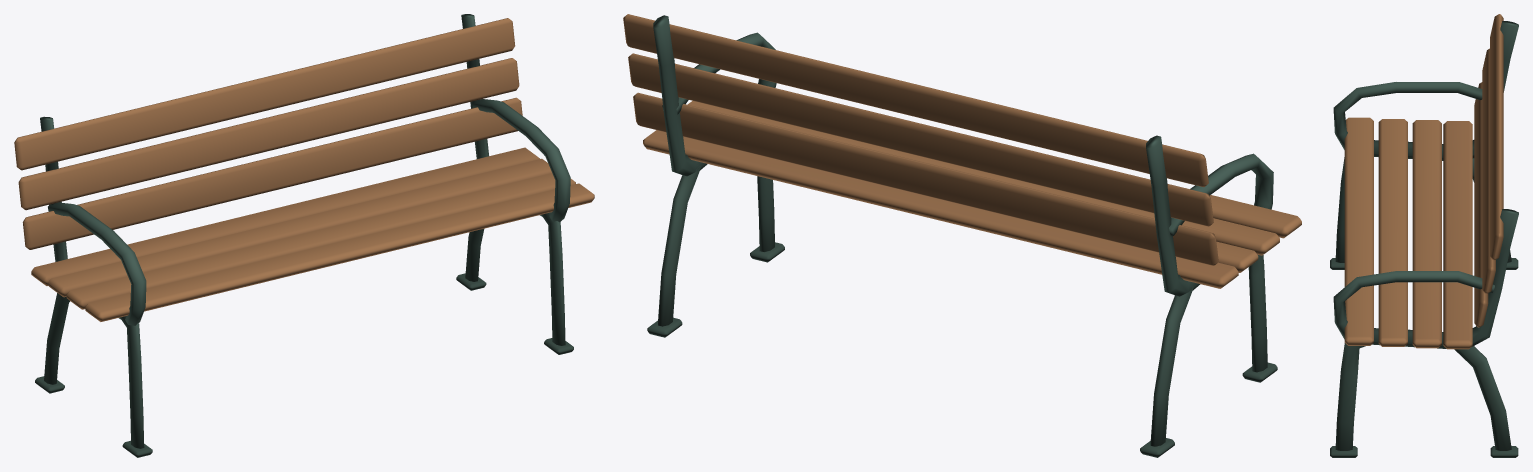
The model's file is Bench.fbx.
3 views of the same model, side by side, from view 1: azimuth 30°, elevation 25°; view 2: azimuth 150°, elevation 25°; view 3: azimuth 270°, elevation 25° (orthographic). The views are drawn at different scales.
Parts seen in each view (by area): view 1: Bench; view 2: Bench; view 3: Bench.
Boxes of the visible parts, box(x1,y1,x2,y2) form: Bench: box(14, 14, 594, 457); Bench: box(623, 14, 1301, 457); Bench: box(1330, 14, 1518, 457).
Size of the model in its own units: 1.7 by 0.8797 by 0.612.
